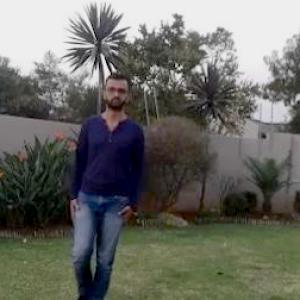follow: (68, 89, 130, 299)
